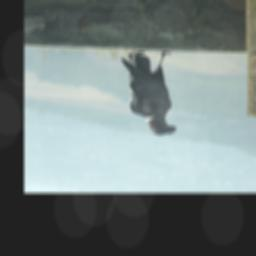Crow: (120, 50, 178, 136)
